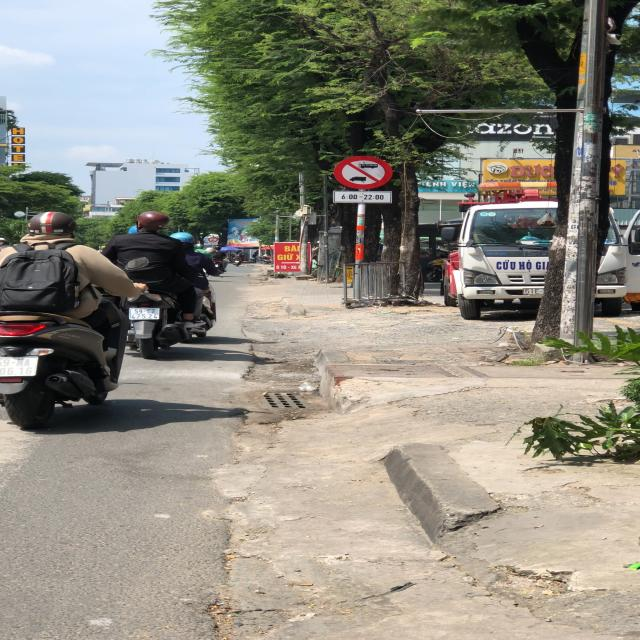Bien bao cam xe oto khach va xe oto tai: (332, 154, 399, 188)
